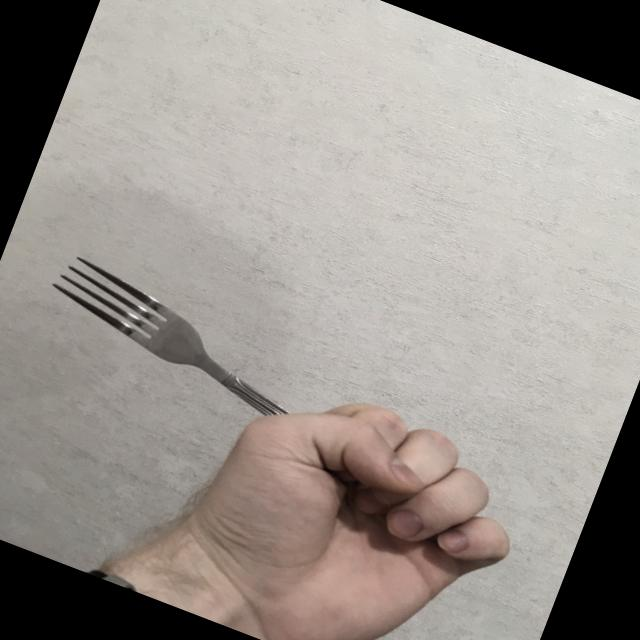fork: (31, 245, 389, 464)
